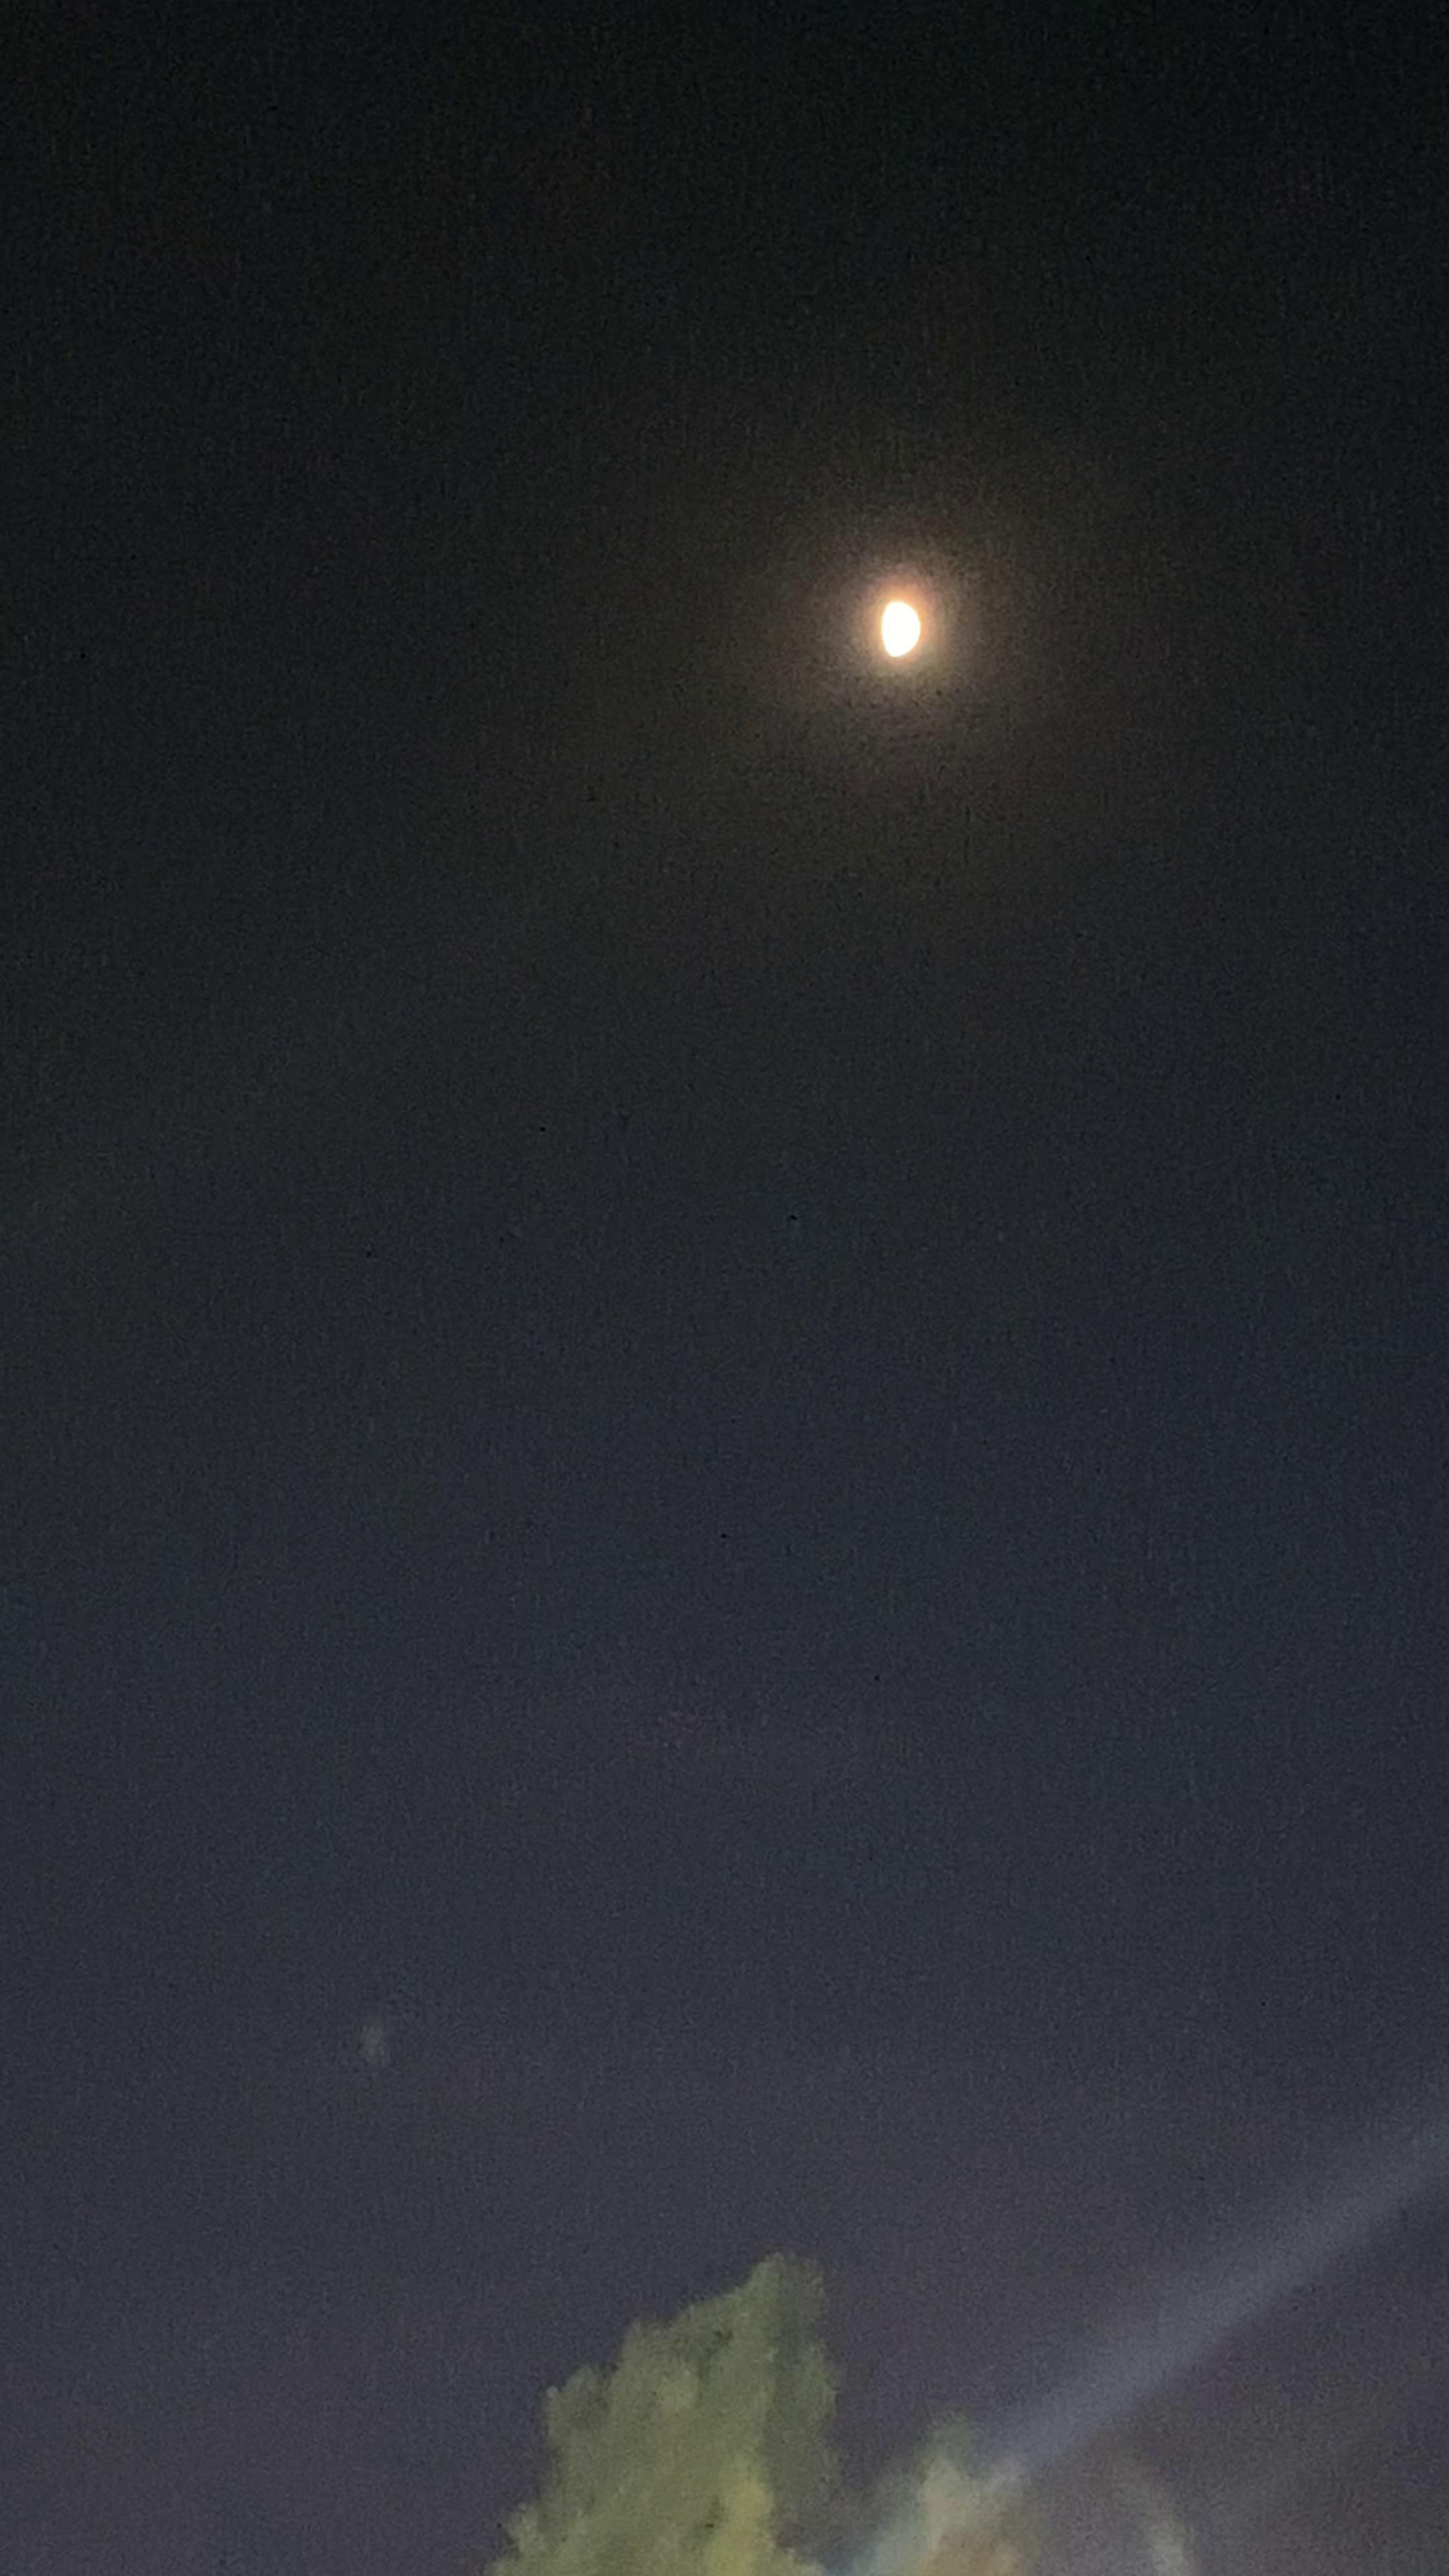moon: (849, 556, 968, 683)
